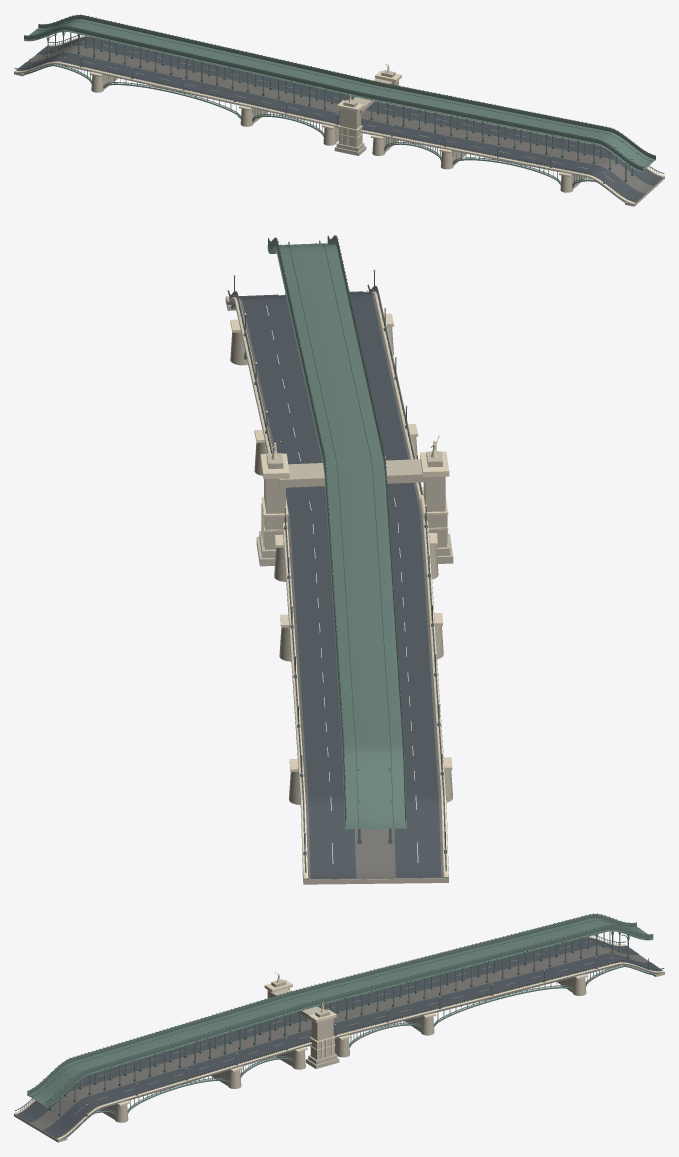
The model's file is paris-pont-bir-hakeim-near.glb.
3 renders of one model, top to bottom at view 1: azimuth 30°, elevation 25°; view 2: azimuth 150°, elevation 25°; view 3: azimuth 270°, elevation 25°, orthographic. The views are drawn at different scales.
Parts seen in each view (by area): view 1: paris-pont-bir-hakeim-steel, paris-pont-bir-hakeim-asphalt, paris-pont-bir-hakeim-deck, paris-pont-bir-hakeim-stone, paris-pont-bir-hakeim-rail, paris-pont-bir-hakeim-trim; view 2: paris-pont-bir-hakeim-asphalt, paris-pont-bir-hakeim-steel, paris-pont-bir-hakeim-stone, paris-pont-bir-hakeim-trim, paris-pont-bir-hakeim-deck, paris-pont-bir-hakeim-rail; view 3: paris-pont-bir-hakeim-steel, paris-pont-bir-hakeim-asphalt, paris-pont-bir-hakeim-deck, paris-pont-bir-hakeim-stone, paris-pont-bir-hakeim-rail, paris-pont-bir-hakeim-trim.
Boxes of the visible parts, left/top/right/bottom form: paris-pont-bir-hakeim-steel: left=24, top=15, right=655, bottom=202; paris-pont-bir-hakeim-asphalt: left=16, top=37, right=662, bottom=202; paris-pont-bir-hakeim-deck: left=14, top=37, right=664, bottom=205; paris-pont-bir-hakeim-stone: left=14, top=70, right=664, bottom=206; paris-pont-bir-hakeim-rail: left=14, top=14, right=664, bottom=200; paris-pont-bir-hakeim-trim: left=14, top=36, right=664, bottom=203; paris-pont-bir-hakeim-asphalt: left=238, top=291, right=441, bottom=878; paris-pont-bir-hakeim-steel: left=231, top=235, right=406, bottom=843; paris-pont-bir-hakeim-stone: left=225, top=298, right=453, bottom=884; paris-pont-bir-hakeim-trim: left=226, top=269, right=452, bottom=878; paris-pont-bir-hakeim-deck: left=225, top=292, right=448, bottom=879; paris-pont-bir-hakeim-rail: left=227, top=235, right=446, bottom=872; paris-pont-bir-hakeim-steel: left=27, top=914, right=654, bottom=1137; paris-pont-bir-hakeim-asphalt: left=16, top=937, right=662, bottom=1138; paris-pont-bir-hakeim-deck: left=14, top=945, right=664, bottom=1140; paris-pont-bir-hakeim-stone: left=14, top=972, right=664, bottom=1142; paris-pont-bir-hakeim-rail: left=15, top=913, right=664, bottom=1136; paris-pont-bir-hakeim-trim: left=14, top=931, right=664, bottom=1139.
Bounding box in the file's own units: 151 × 23.02 × 213.
